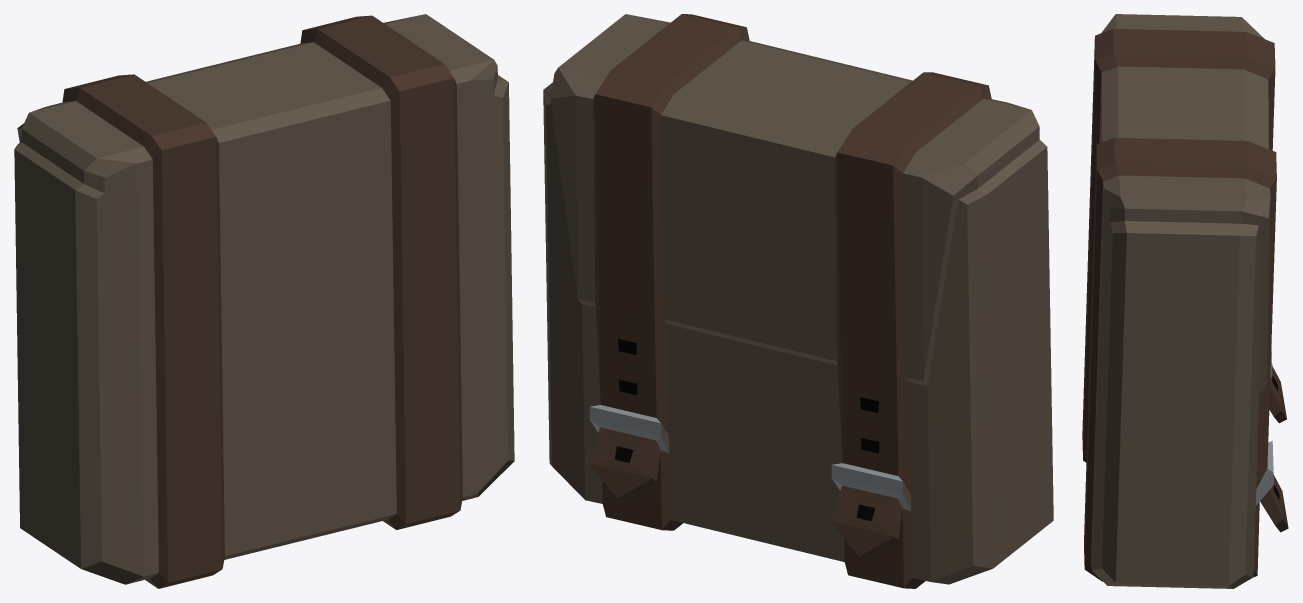
File: Chr_BackAttachment_02_Static.fbx
3 views of the same model, side by side, from view 1: azimuth 30°, elevation 25°; view 2: azimuth 150°, elevation 25°; view 3: azimuth 270°, elevation 25° (orthographic). The views are drawn at different scales.
Parts seen in each view (by area): view 1: Chr_BackAttachment_02_Static; view 2: Chr_BackAttachment_02_Static; view 3: Chr_BackAttachment_02_Static.
Part boxes in pixels (box(x1,y1,x2,y2)): Chr_BackAttachment_02_Static: box(14, 14, 514, 588); Chr_BackAttachment_02_Static: box(543, 14, 1053, 588); Chr_BackAttachment_02_Static: box(1082, 14, 1288, 588).
Size of the model in its own units: 0.2949 by 0.2909 by 0.1288.
